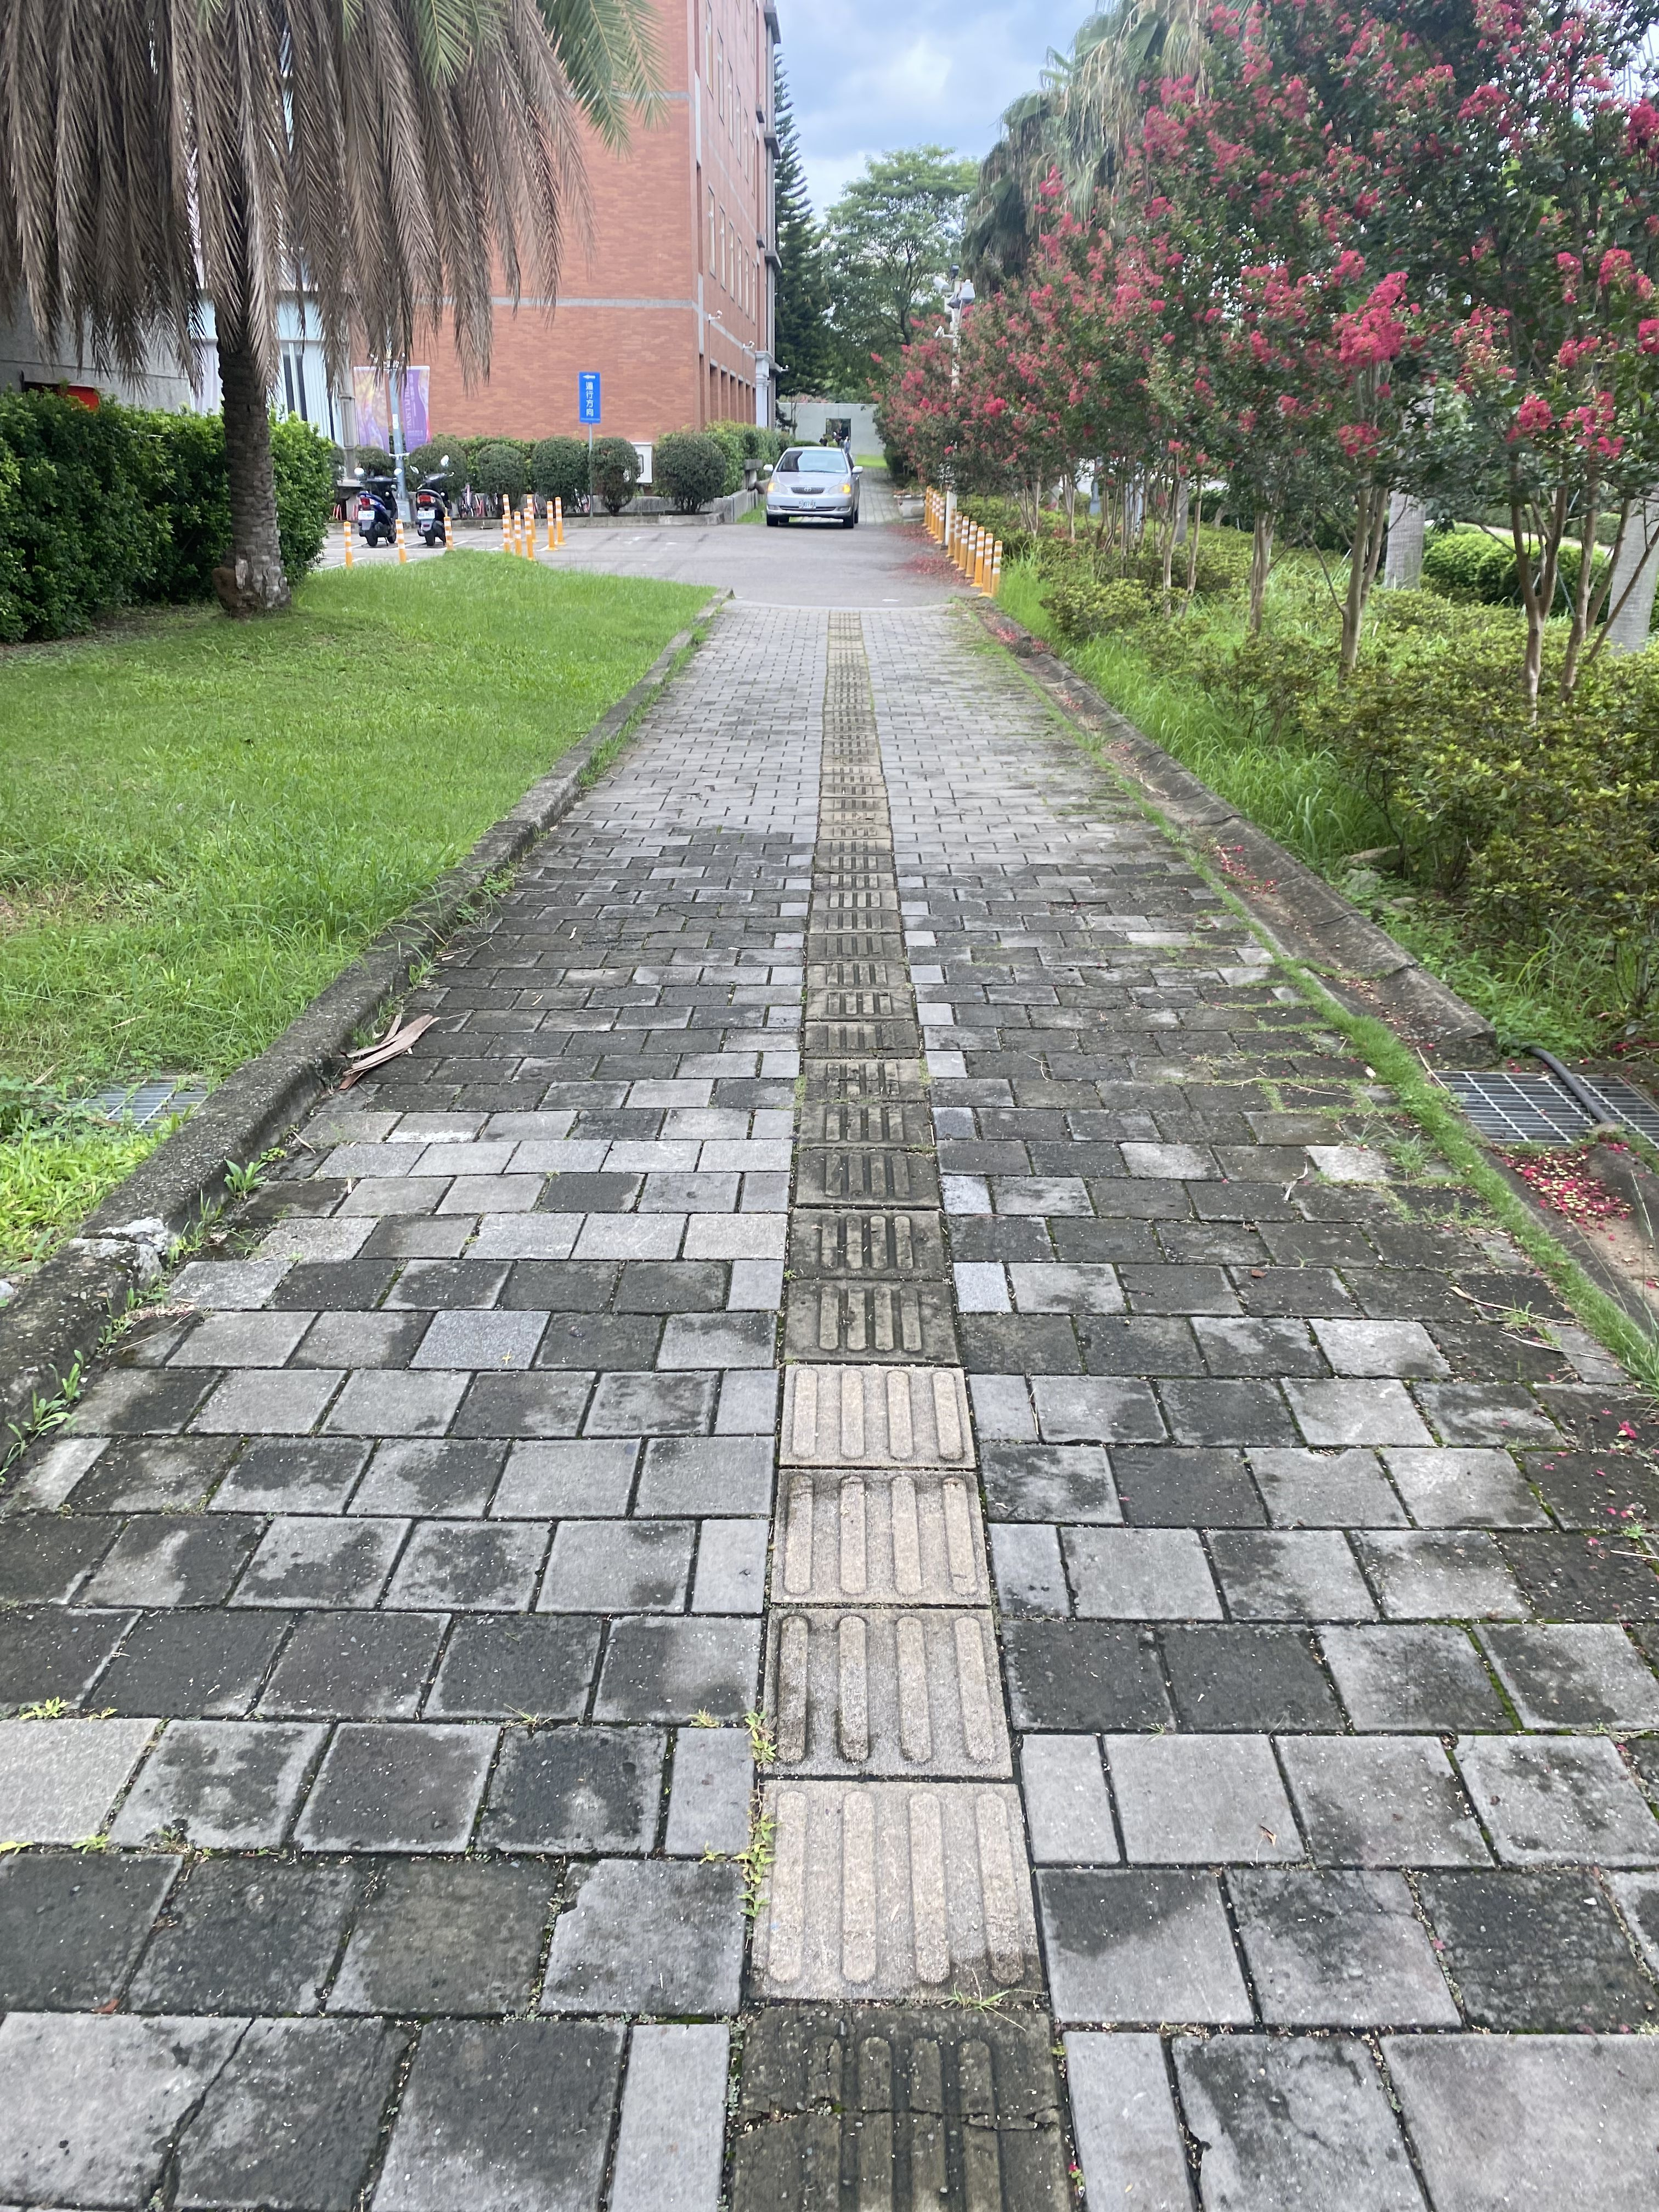0: (7, 803, 1659, 2210)
sidewalk: (538, 603, 1331, 1369)
